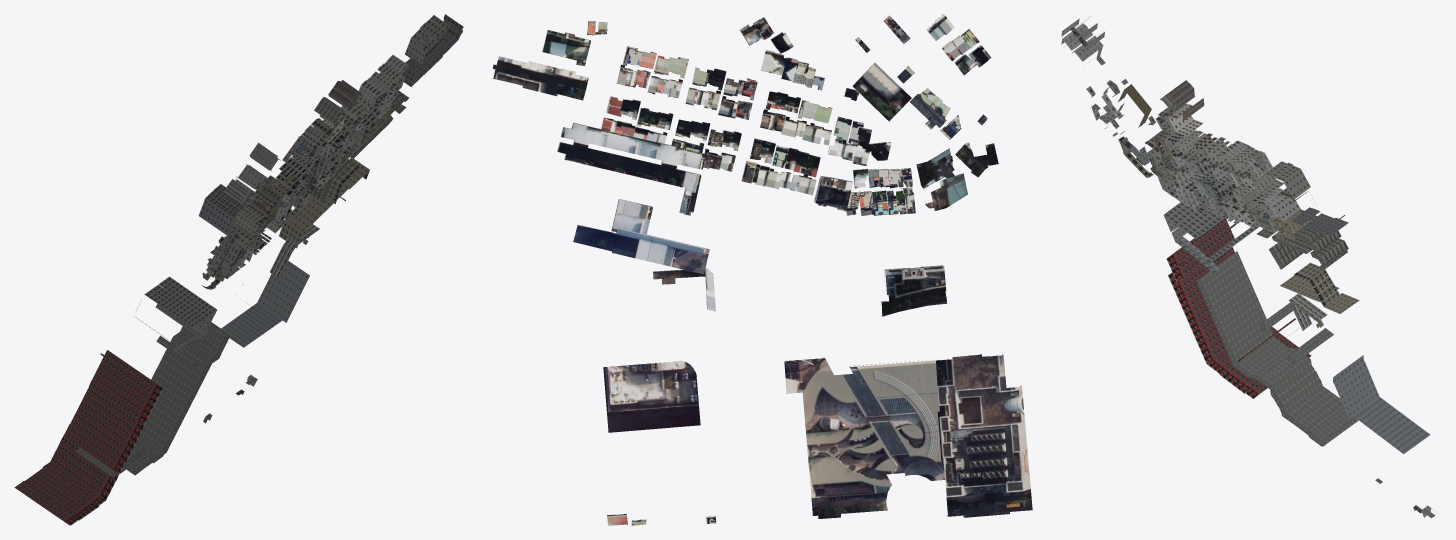
File: tile_LOD8_r3_c7.glb
3 views of the same model, side by side, from view 1: azimuth 30°, elevation 25°; view 2: azimuth 150°, elevation 25°; view 3: azimuth 270°, elevation 25° (orthographic). The views are drawn at different scales.
Size of the model in its own units: 407 by 325 by 260.
Materials: 443 (443 with a texture image).
